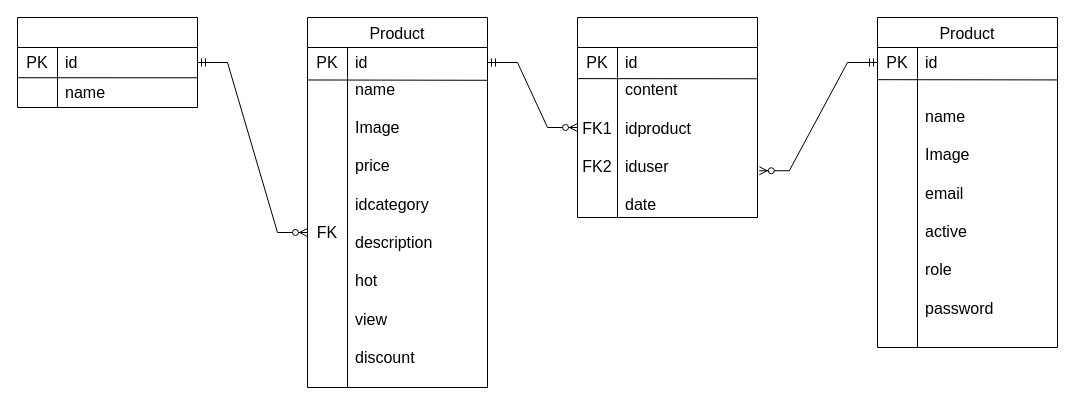
The diagram is 1076 pixels wide and 405 high, and some of its shapes have lost their labels. The box of each missing label's shape, as (x1, y1, x2, y2) in pixels:
Category: (16, 16, 198, 108)
Comment: (576, 16, 758, 218)
